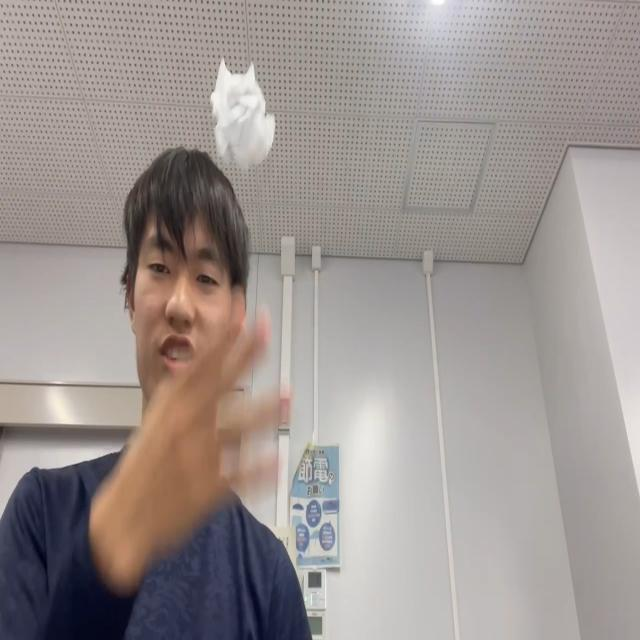paper: (210, 58, 276, 169)
